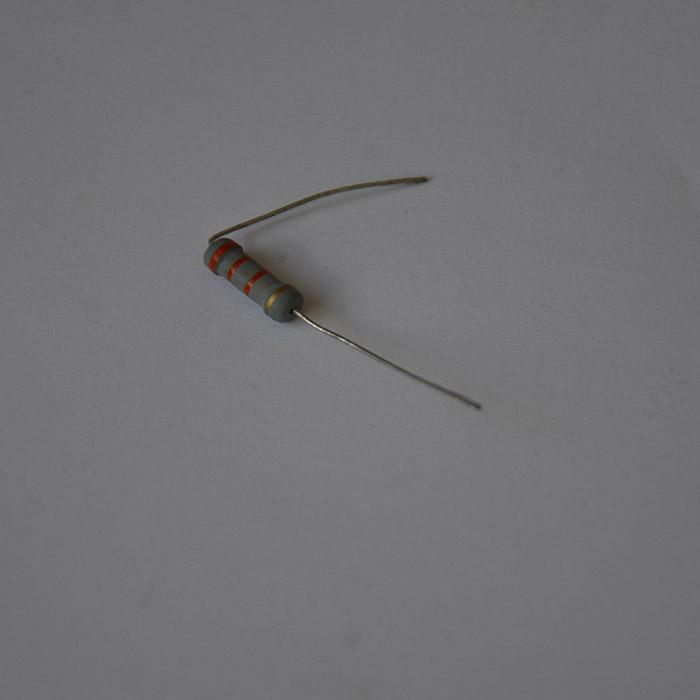resistor: (200, 236, 304, 323)
